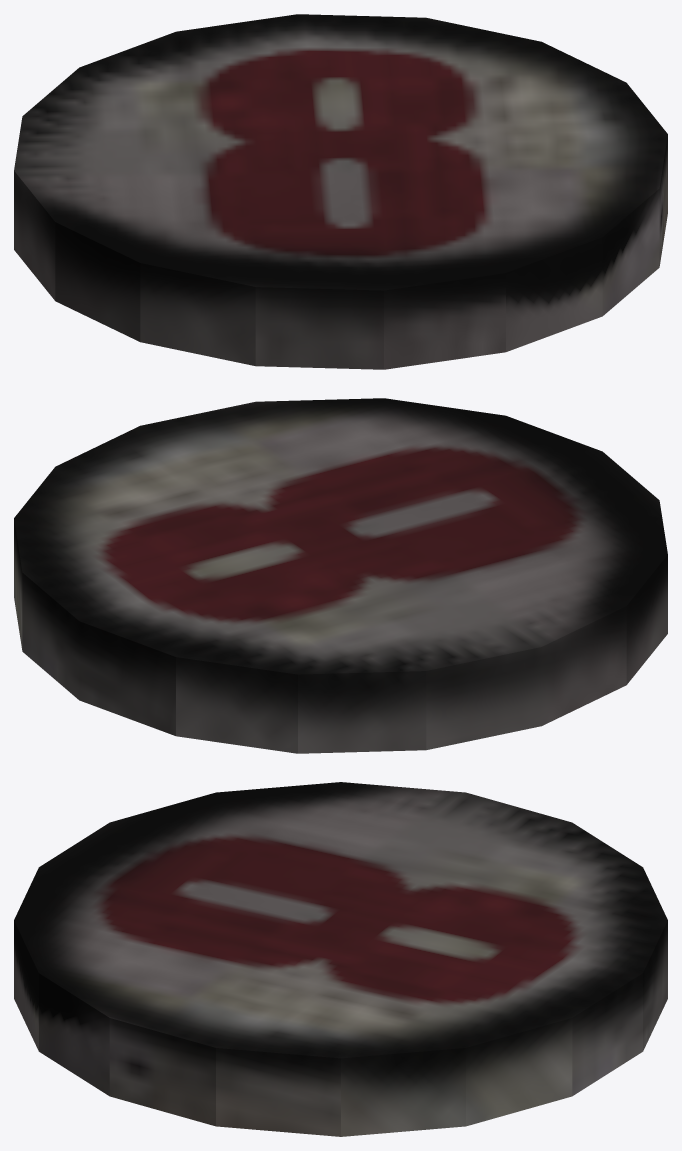
File: button_8.fbx
3 views of the same model, one above another, from view 1: azimuth 30°, elevation 25°; view 2: azimuth 150°, elevation 25°; view 3: azimuth 270°, elevation 25° (orthographic).
Parts seen in each view (by area): view 1: Circle.004; view 2: Circle.004; view 3: Circle.004.
Part boxes in pixels (bbox=[...]): Circle.004: bbox=[14, 14, 667, 369]; Circle.004: bbox=[14, 398, 667, 753]; Circle.004: bbox=[14, 782, 667, 1136].
Bounding box in the file's own units: 200 × 26.5 × 200.
Materials: 1 (1 with a texture image).
